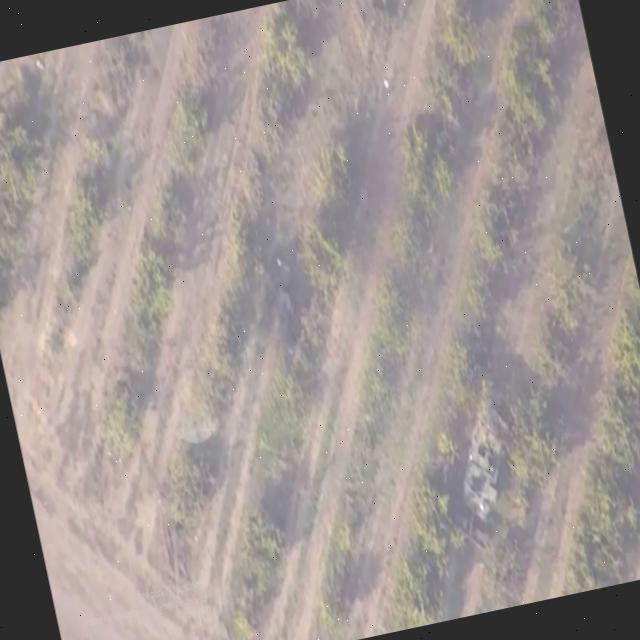APC: (444, 397, 528, 527)
